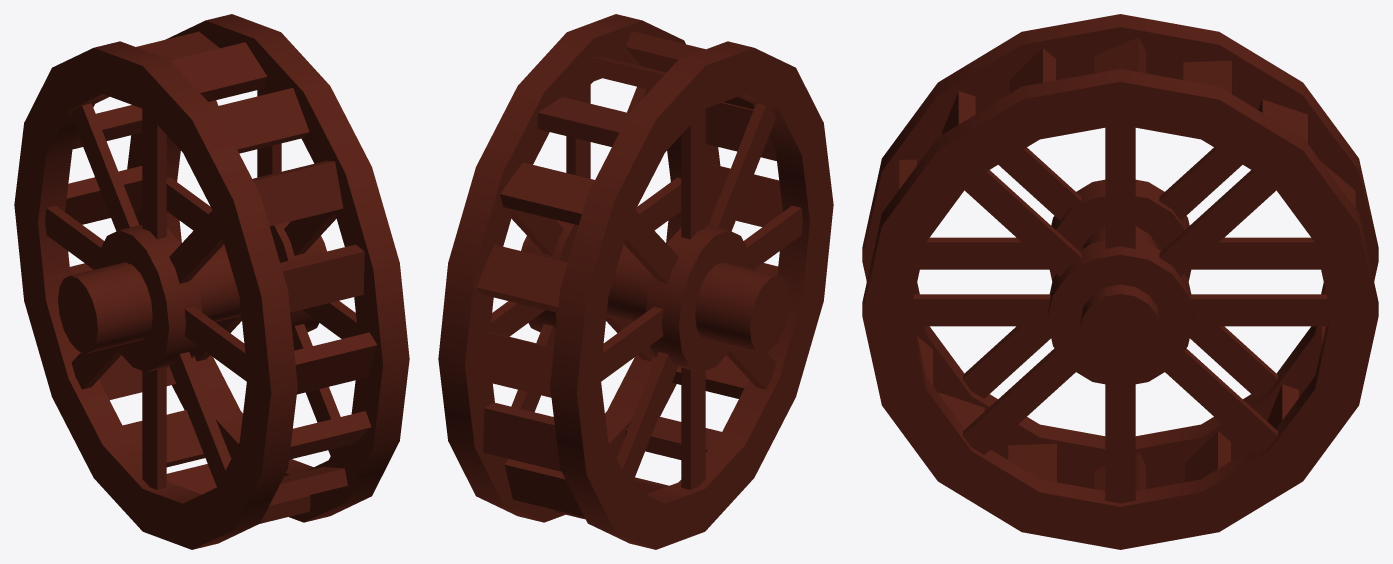
The model's file is watermill_wheel.obj.
The picture shows the model from 3 angles, left to right: view 1: azimuth 30°, elevation 25°; view 2: azimuth 150°, elevation 25°; view 3: azimuth 270°, elevation 25°; orthographic projection.
Parts seen in each view (by area): view 1: watermill_wheel_Cylinder.778; view 2: watermill_wheel_Cylinder.778; view 3: watermill_wheel_Cylinder.778.
Part boxes in pixels (x1,y1,x2,y2): watermill_wheel_Cylinder.778: (14,14,409,549); watermill_wheel_Cylinder.778: (438,14,833,549); watermill_wheel_Cylinder.778: (862,14,1378,549).
Size of the model in its own units: 0.5197 by 0.995 by 0.995.
